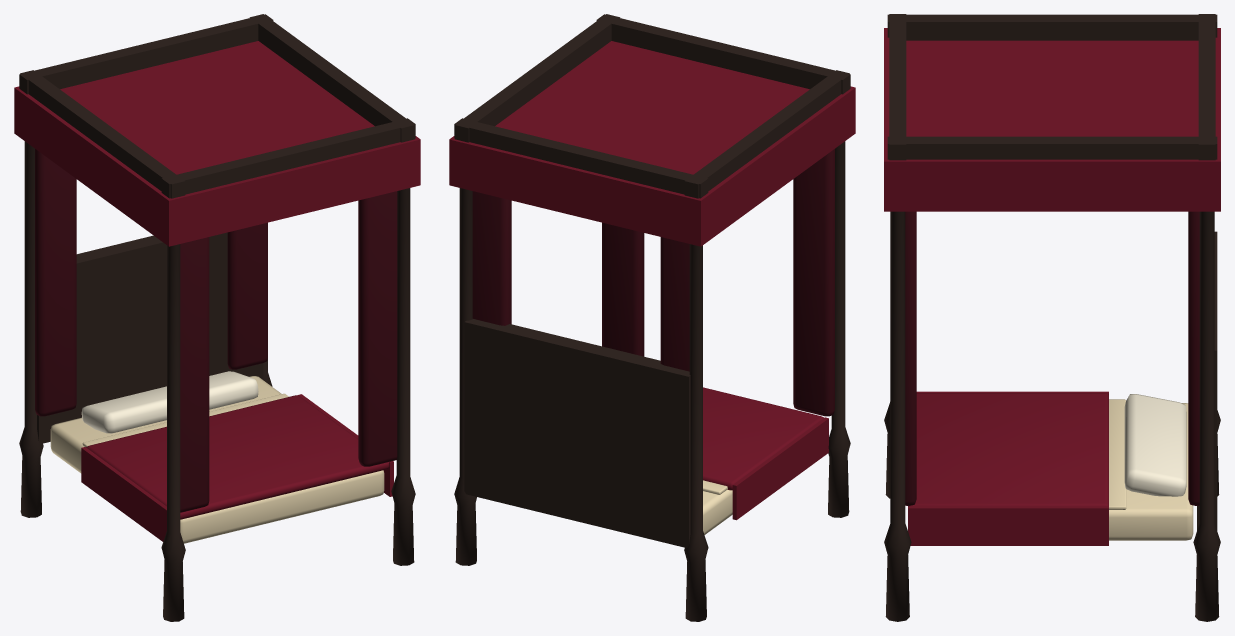
The model's file is bed_canopy.glb.
3 renders of one model, left to right at view 1: azimuth 30°, elevation 25°; view 2: azimuth 150°, elevation 25°; view 3: azimuth 270°, elevation 25°, orthographic. The views are drawn at different scales.
Visible parts, largest first — view 1: bed_canopy; view 2: bed_canopy; view 3: bed_canopy.
Part boxes in pixels (<box>): bed_canopy: <box>14,14,420,621</box>; bed_canopy: <box>449,14,855,621</box>; bed_canopy: <box>884,14,1220,621</box>.
Bounding box in the file's own units: 0.92 × 1.53 × 0.98.
